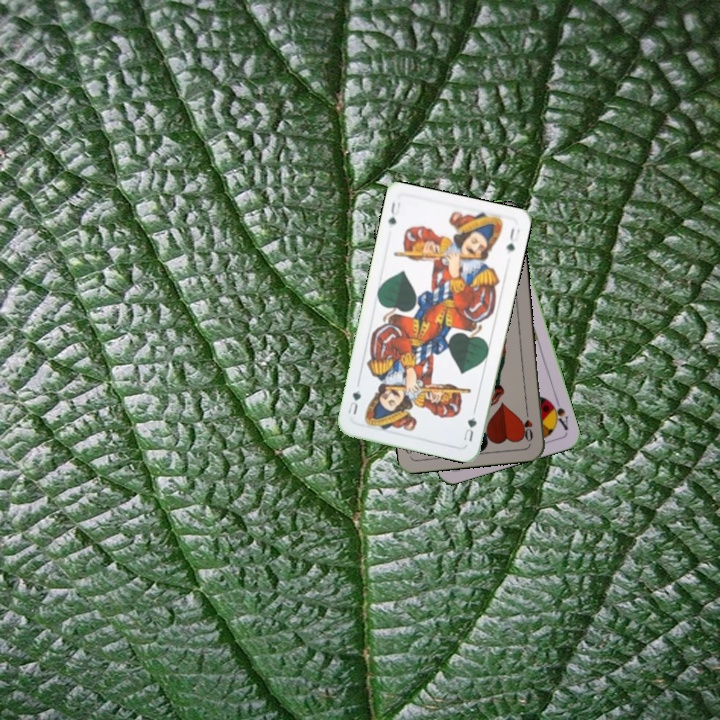GU: (460, 412, 479, 444), (384, 198, 403, 228)
HO: (519, 404, 536, 444)
SA: (546, 396, 571, 433)
